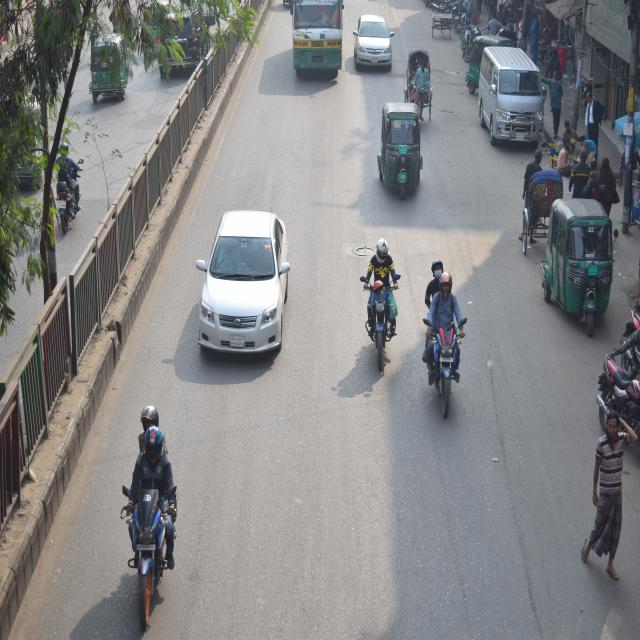bus: (293, 6, 351, 76)
car: (196, 183, 299, 380), (155, 8, 210, 86), (355, 13, 392, 68)
microbus: (479, 32, 554, 150)
motorbike: (119, 399, 187, 626), (413, 259, 475, 402), (360, 236, 416, 369), (54, 138, 87, 236)
